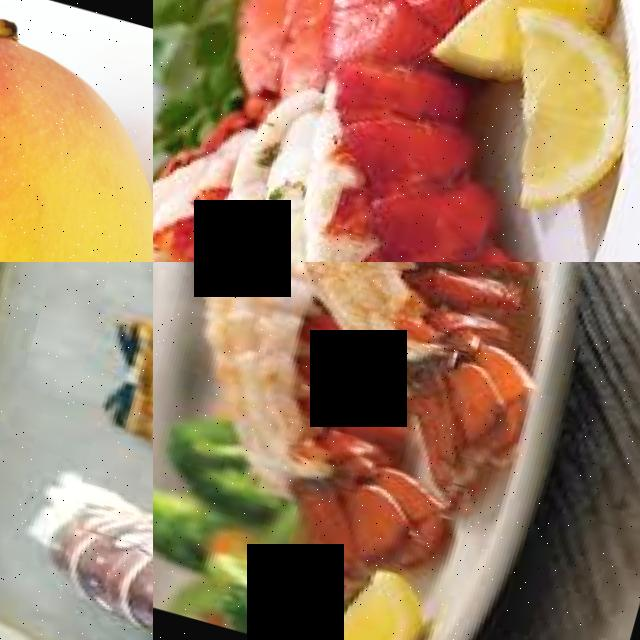lemon: (464, 1, 640, 228)
lobster tails: (307, 262, 584, 449), (233, 352, 460, 573), (26, 502, 153, 640), (81, 305, 153, 529)
mango: (0, 0, 153, 262)
peanuts: (160, 0, 506, 262)
